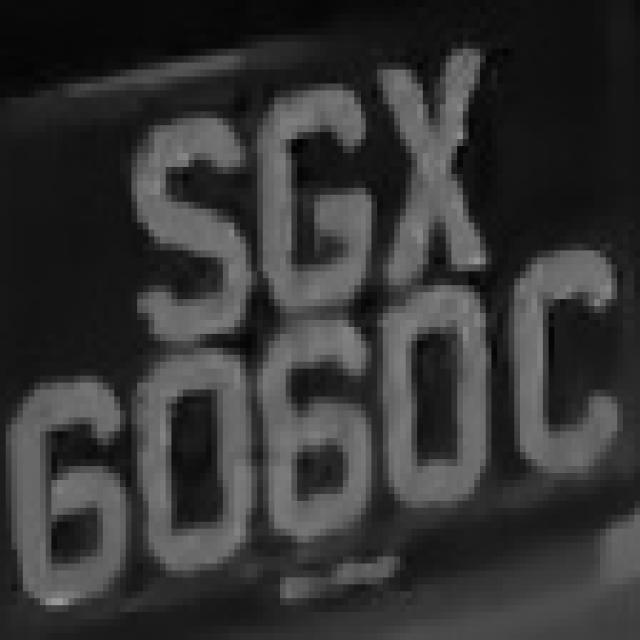0: (114, 320, 269, 591), (354, 278, 497, 536)
6: (252, 285, 388, 536), (17, 334, 132, 612)
C: (514, 222, 623, 514)
G: (240, 70, 383, 313)
S: (108, 90, 245, 348)
X: (360, 35, 514, 299)
